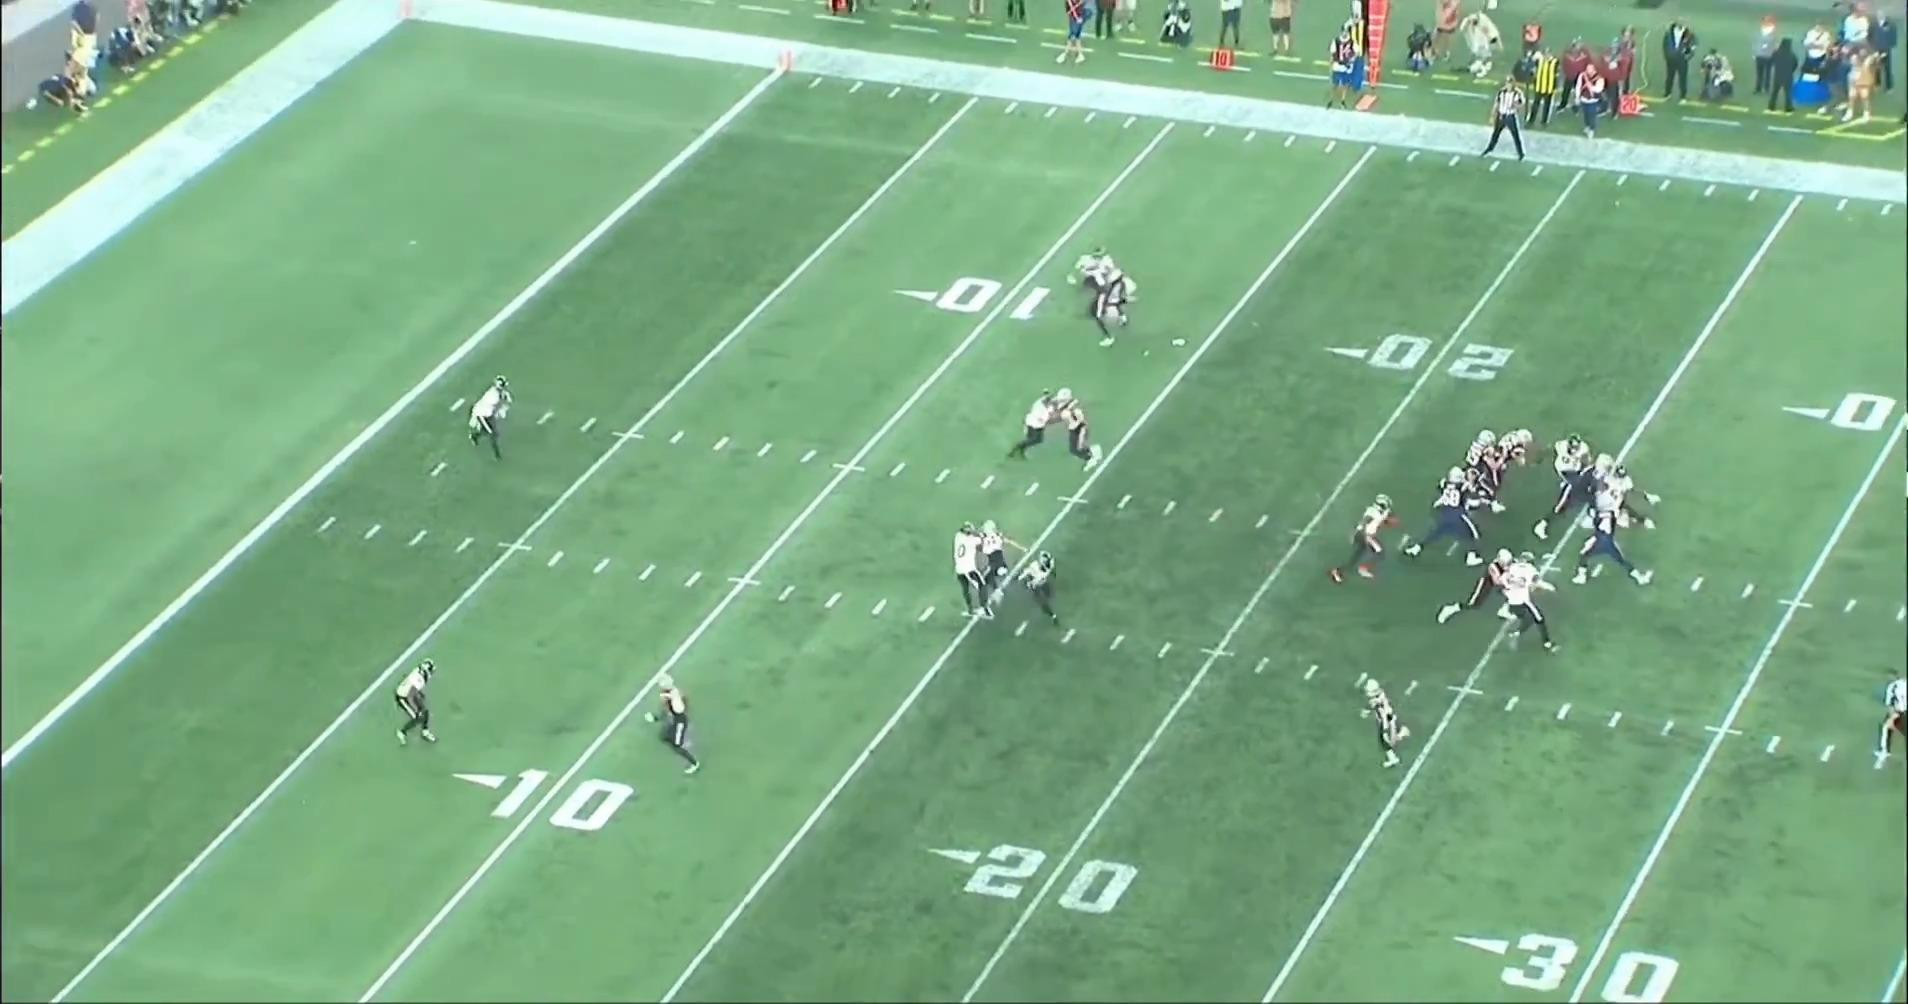defense: (1327, 495, 1406, 593), (1502, 554, 1562, 658), (947, 517, 1000, 624), (1000, 385, 1067, 466), (386, 654, 439, 751), (467, 374, 520, 469), (1526, 430, 1601, 492), (1599, 463, 1665, 533), (1088, 245, 1141, 330), (1015, 551, 1067, 632)
oline: (1407, 466, 1488, 569), (1534, 453, 1617, 546), (1429, 548, 1513, 626), (1463, 431, 1510, 515), (1492, 424, 1547, 469)
qb: (1565, 474, 1645, 587)
ref: (1477, 74, 1532, 162), (1879, 667, 1908, 770)
skill: (1351, 671, 1408, 768), (653, 674, 705, 778), (970, 516, 1029, 607), (1074, 252, 1127, 352), (1050, 390, 1111, 475)
